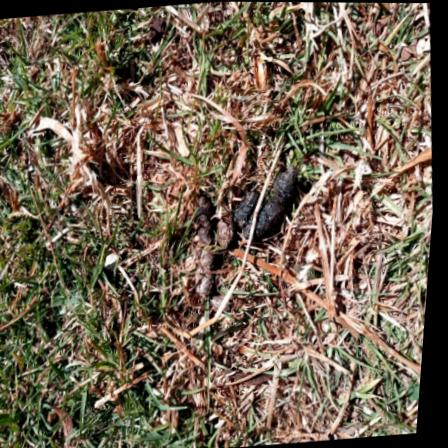dog-poop: (186, 168, 315, 301)
